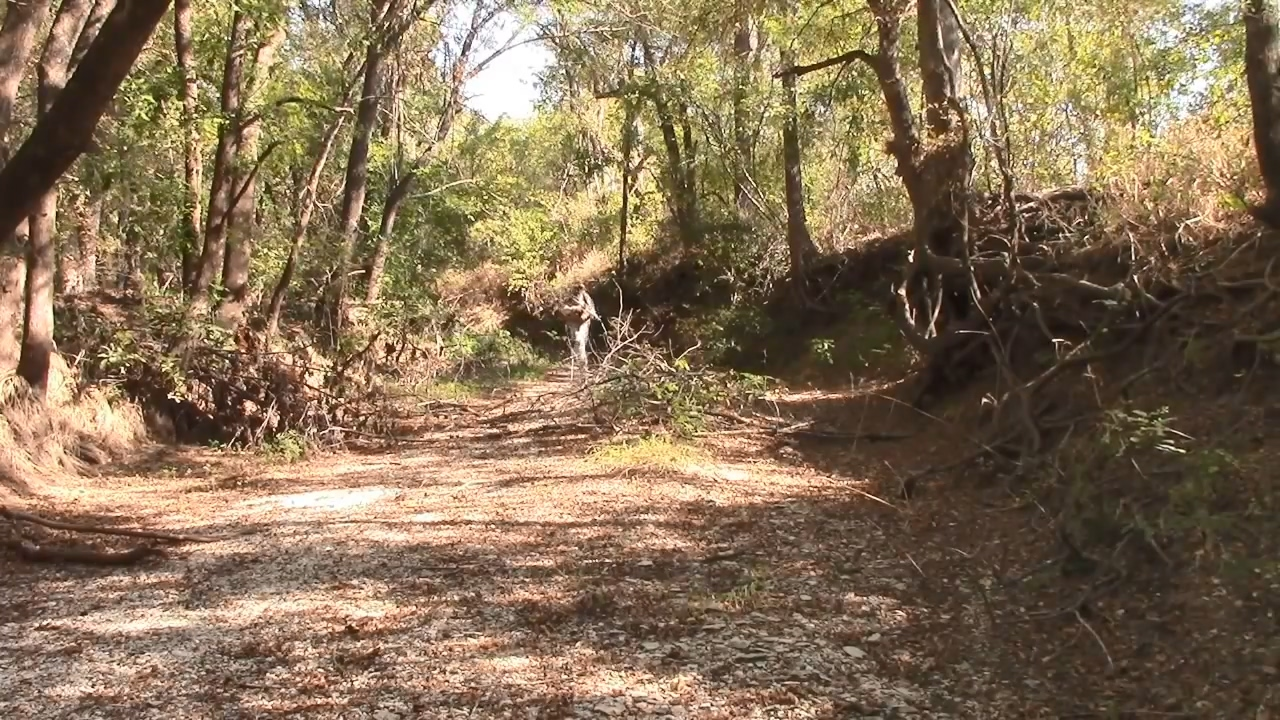person: (556, 276, 605, 379)
